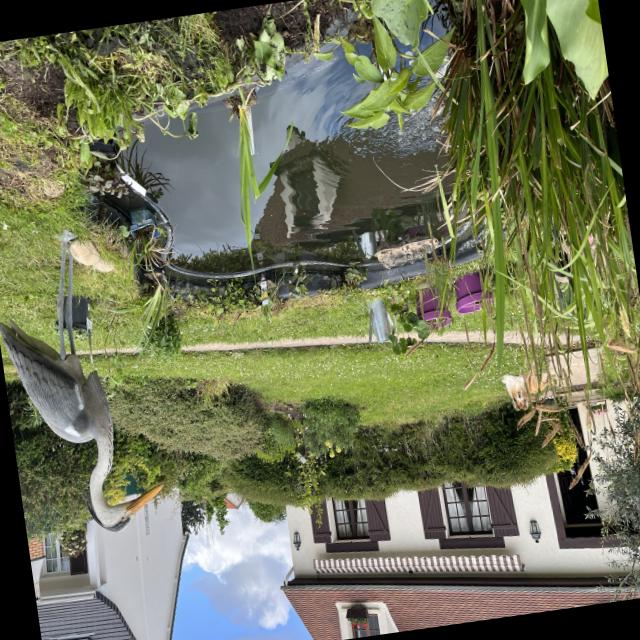Dog: (492, 345, 560, 429)
Heron: (0, 195, 178, 551)
